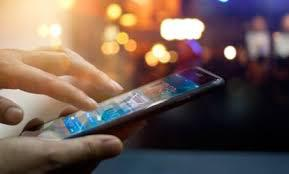Hand: (0, 45, 116, 126), (0, 117, 127, 174)
Smartphone: (45, 69, 228, 139)
